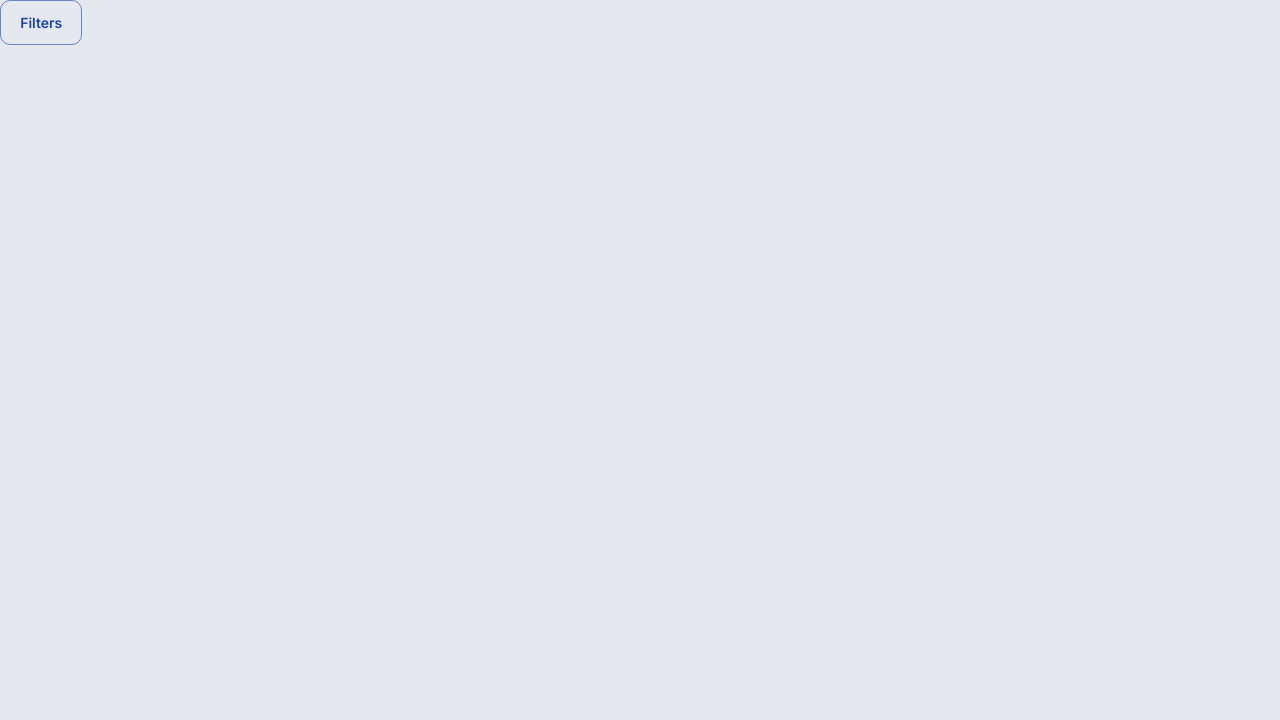
Test: discovery controls › requires a consistent price basis and converts decimal rent exactly
The width and height of the screenshot is (1280, 720).
Later steps or results of the test are not shown.
Click the button "Filters" at (41, 23), box [0, 0, 82, 45]
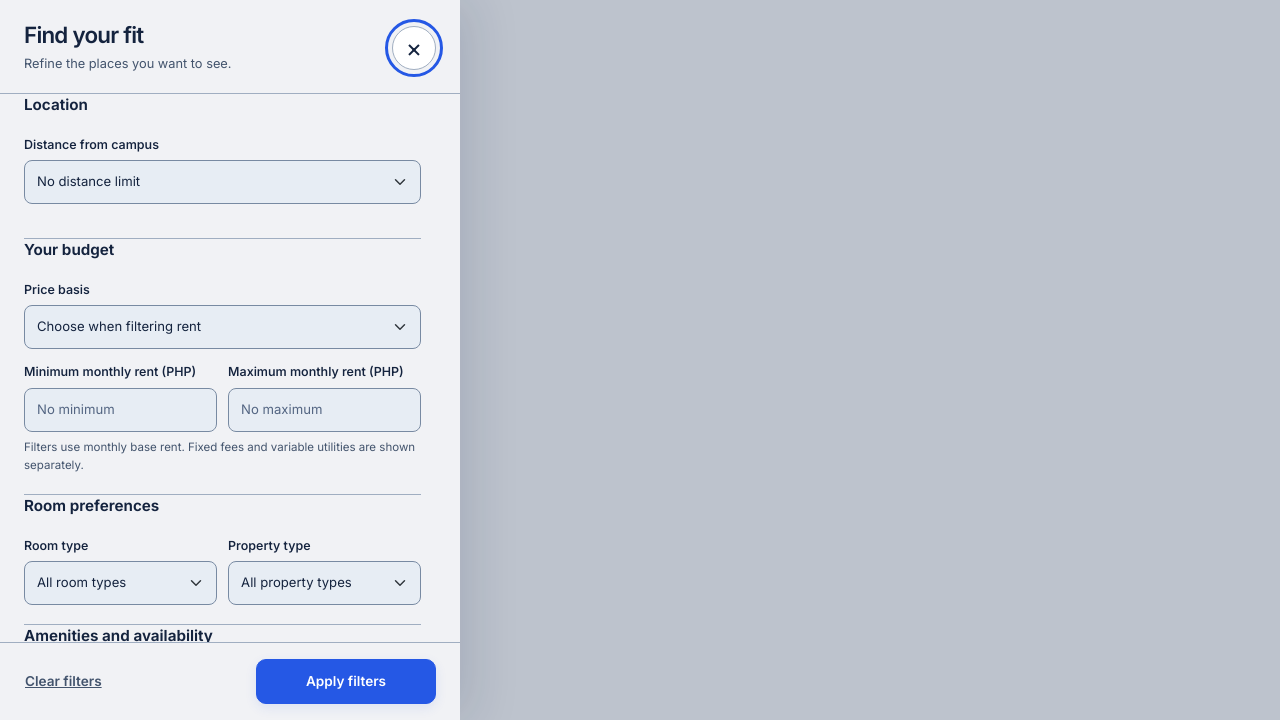
Type "3500.29" into the field labelled "Maximum monthly rent (PHP)" at (325, 410), box [228, 388, 421, 432]
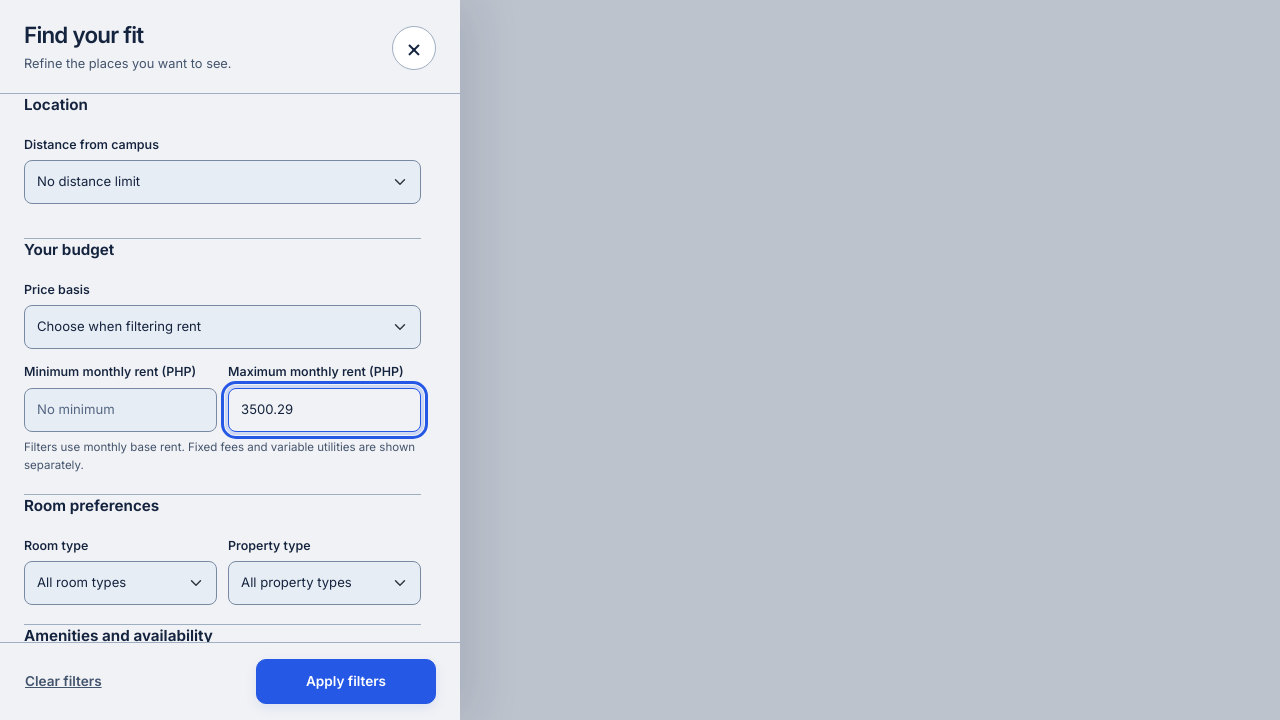
Click the button "Apply filters" at (346, 682), box [256, 659, 436, 704]
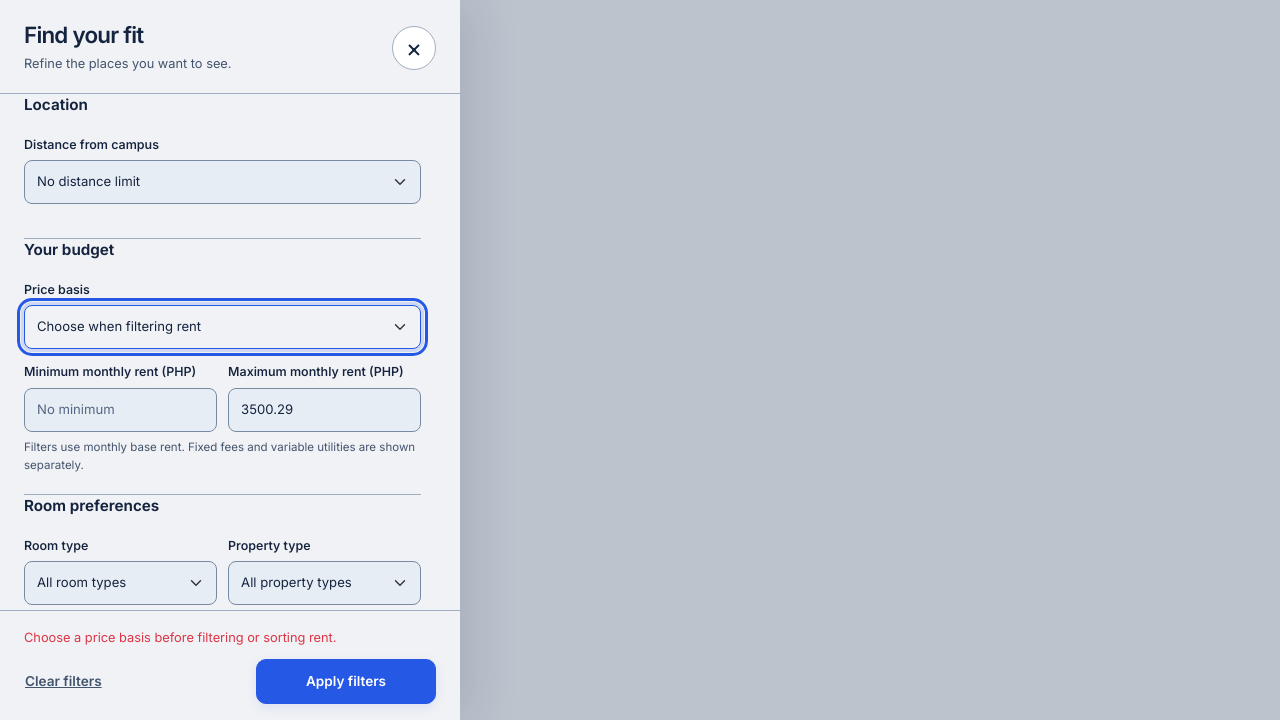
Expected: the message shows "Choose a price basis", [24, 630, 336, 645]
